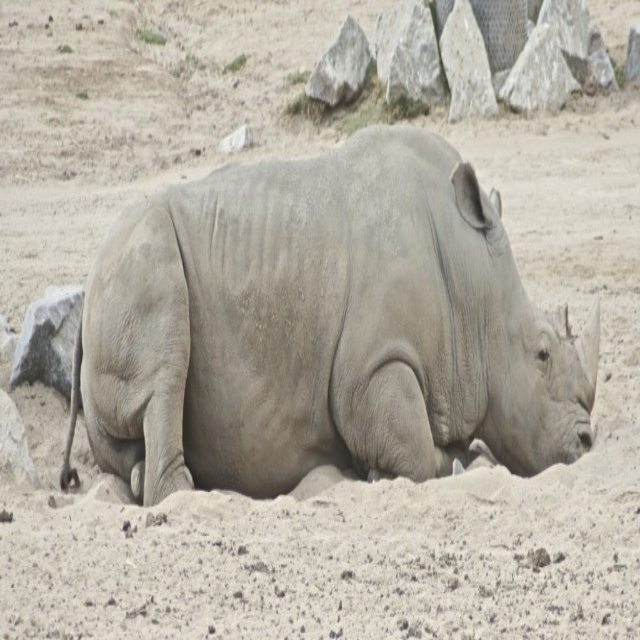Rhinoceros: (58, 113, 600, 509)
